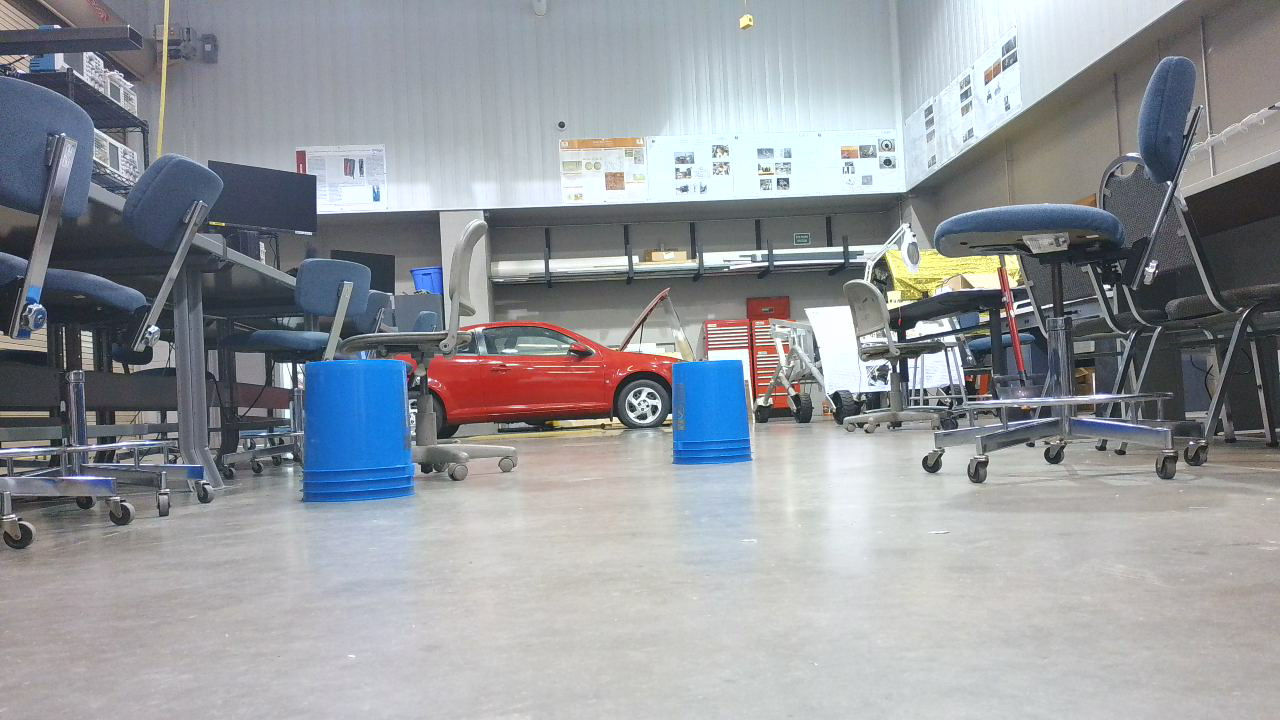blue_bucket: (306, 362, 423, 510), (676, 363, 759, 471)
